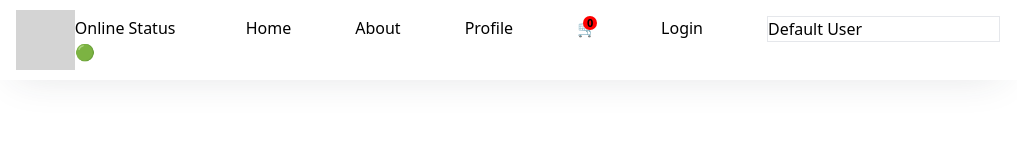
it: should render header component & login btn should change to logout on click
The image size is (1017, 160).
Click the button "Login" at (682, 28), box top-left (661, 16), bottom-right (703, 40)
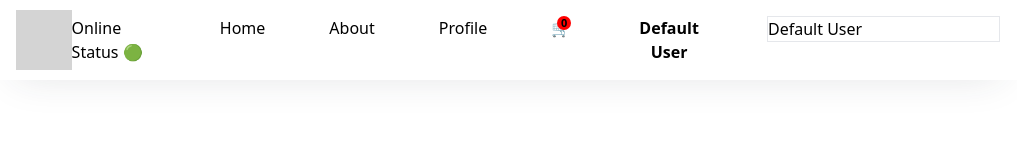
expect the button named "Login" reads "Default User": met, box top-left (635, 16), bottom-right (703, 64)
